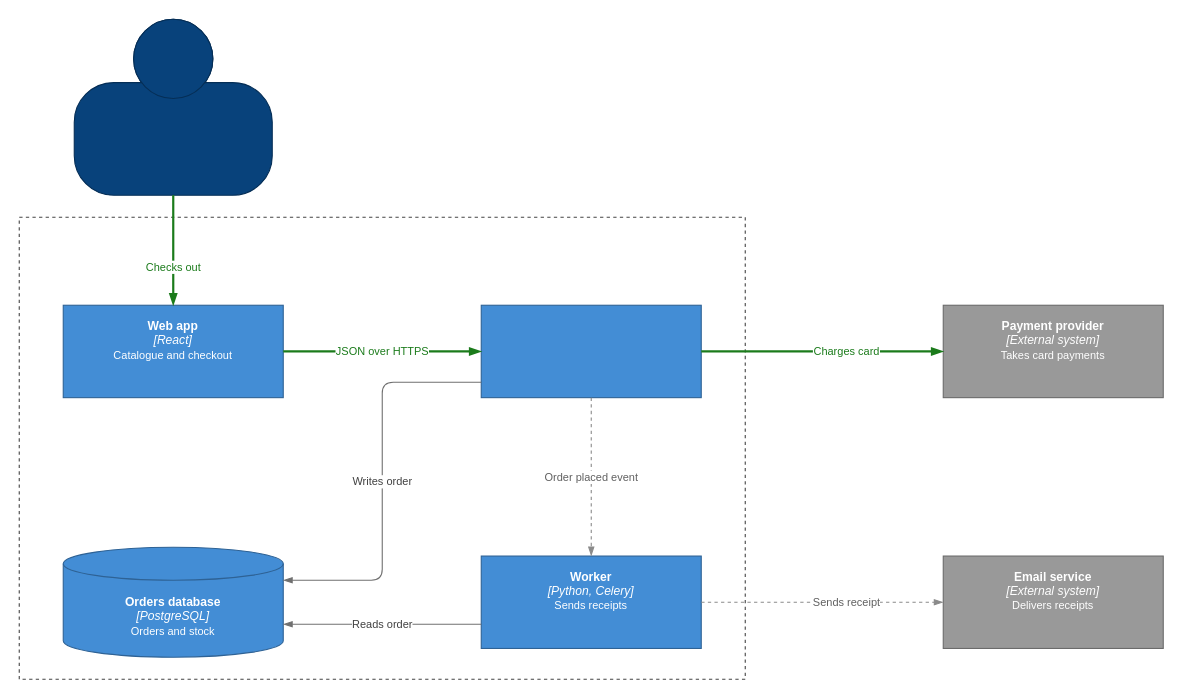
The diagram is 1183 pixels wide and 699 high, and some of its shapes have lost their labels. Here are the shapes that lost their labels. From the top down, the box of each, then its label:
(73, 18, 272, 195): Customer [Person] Browses and buys
(480, 304, 701, 398): API [Python, FastAPI] Orders and payments
(18, 216, 745, 679): Online shop [Software system]
